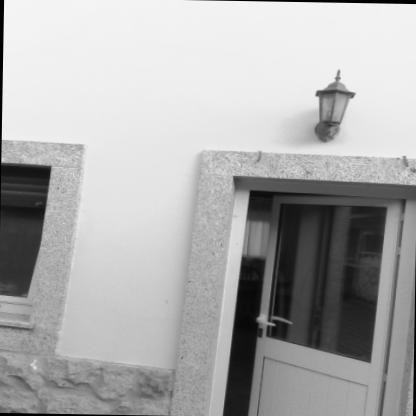semi: (195, 151, 413, 416)
